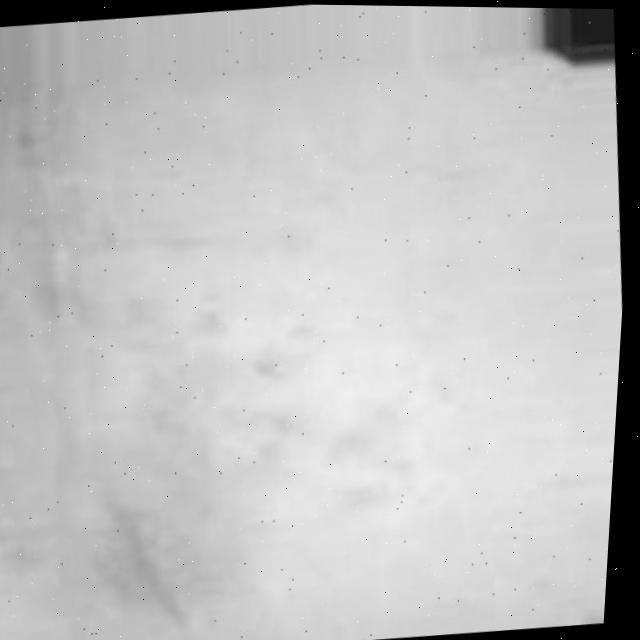Shingles: (3, 254, 463, 640)
